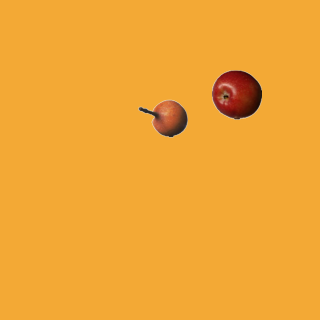Apple Braeburn: (211, 69, 261, 119)
Granadilla: (137, 93, 187, 143)
